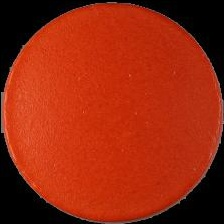16590-541: (0, 0, 224, 224)
